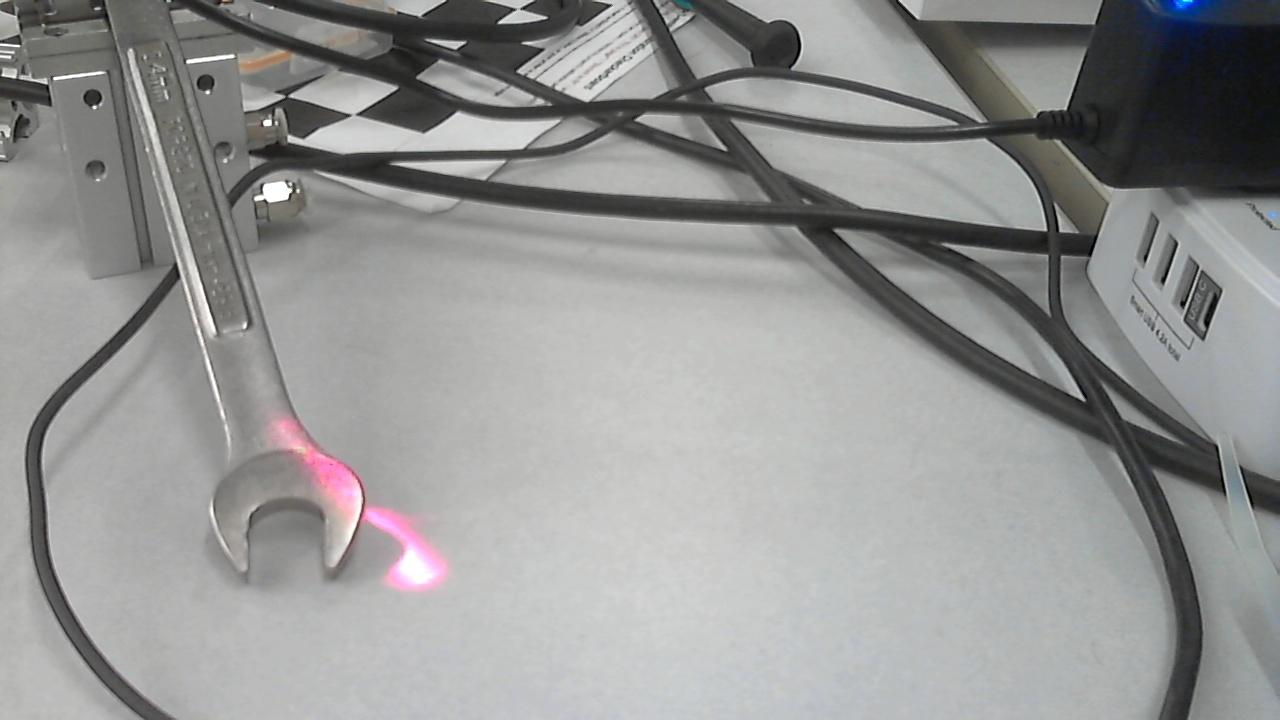Object combination wrench - Material metal- Pdfname faefasdffdaea: (271, 415, 364, 523)
